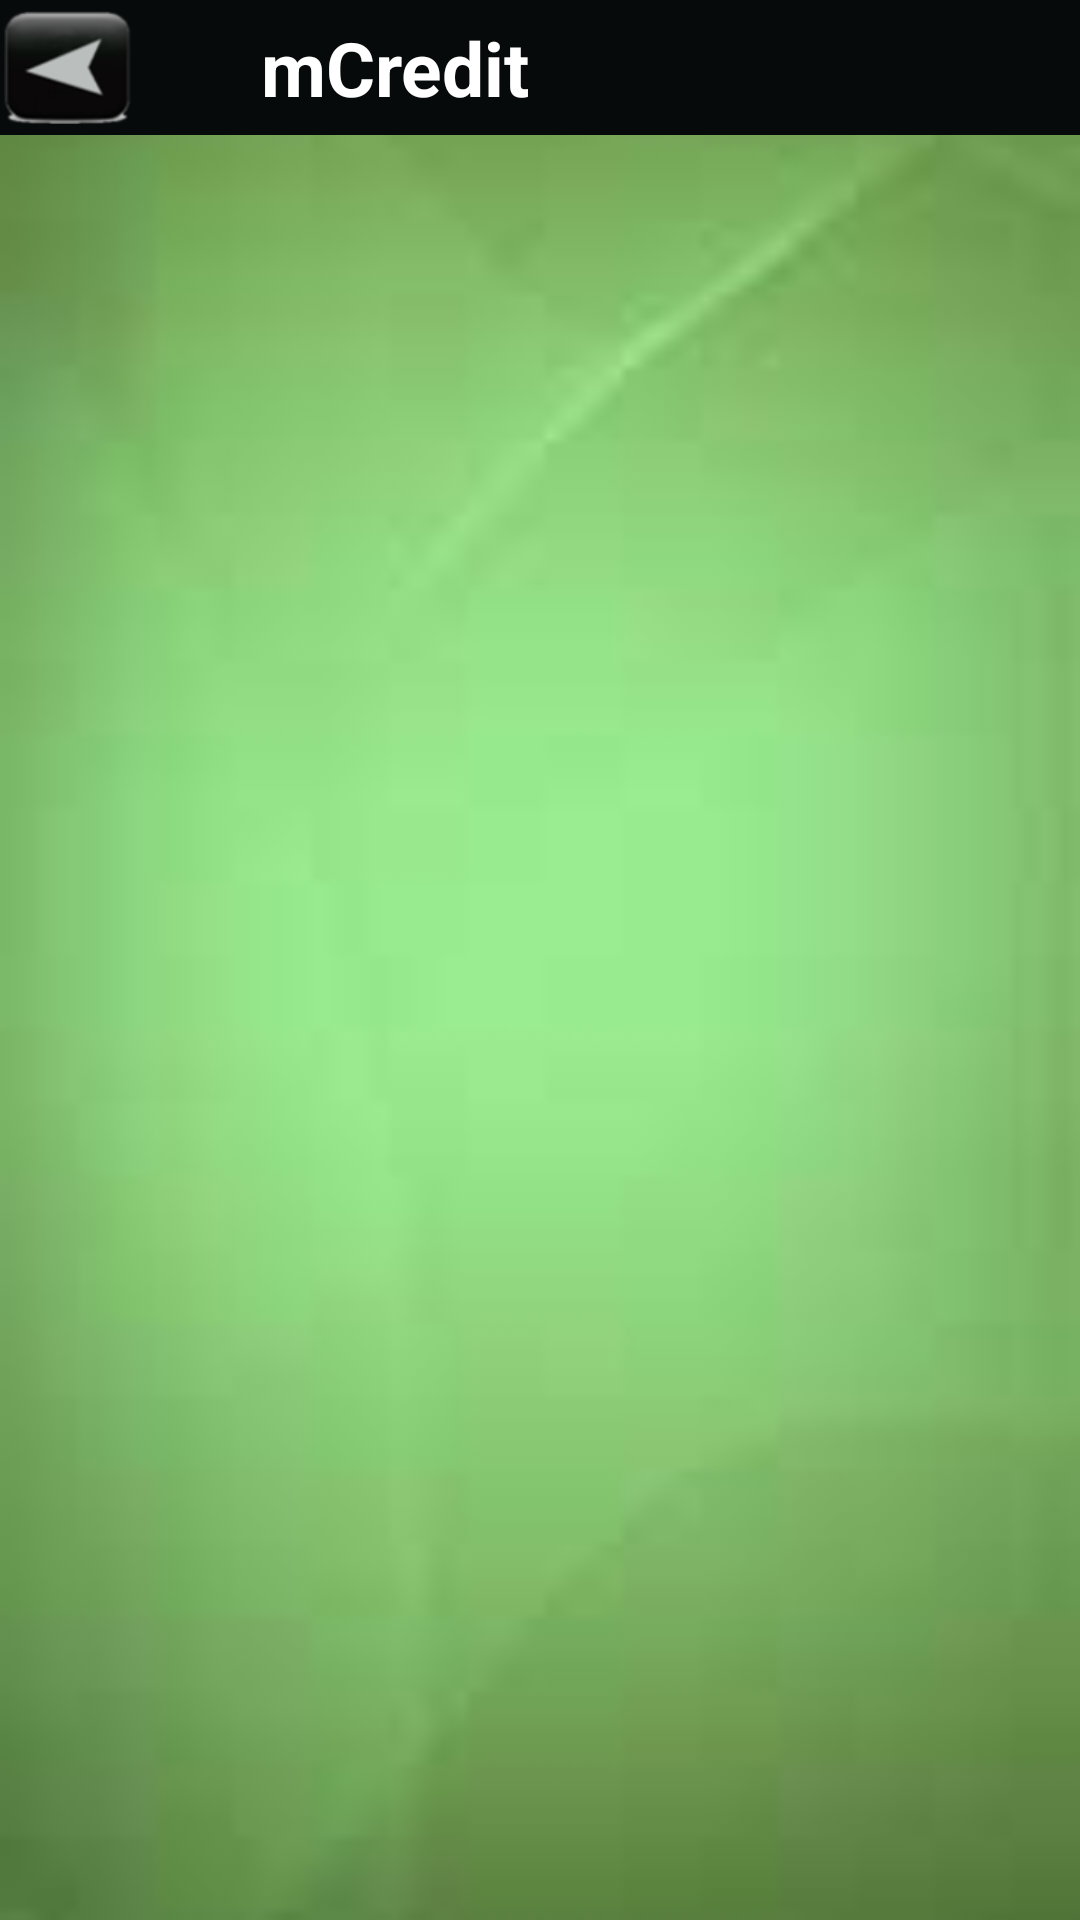

Where to tap for icons on this 1080px×1920px app screen, as [x,y]:
title home: [67,68]
